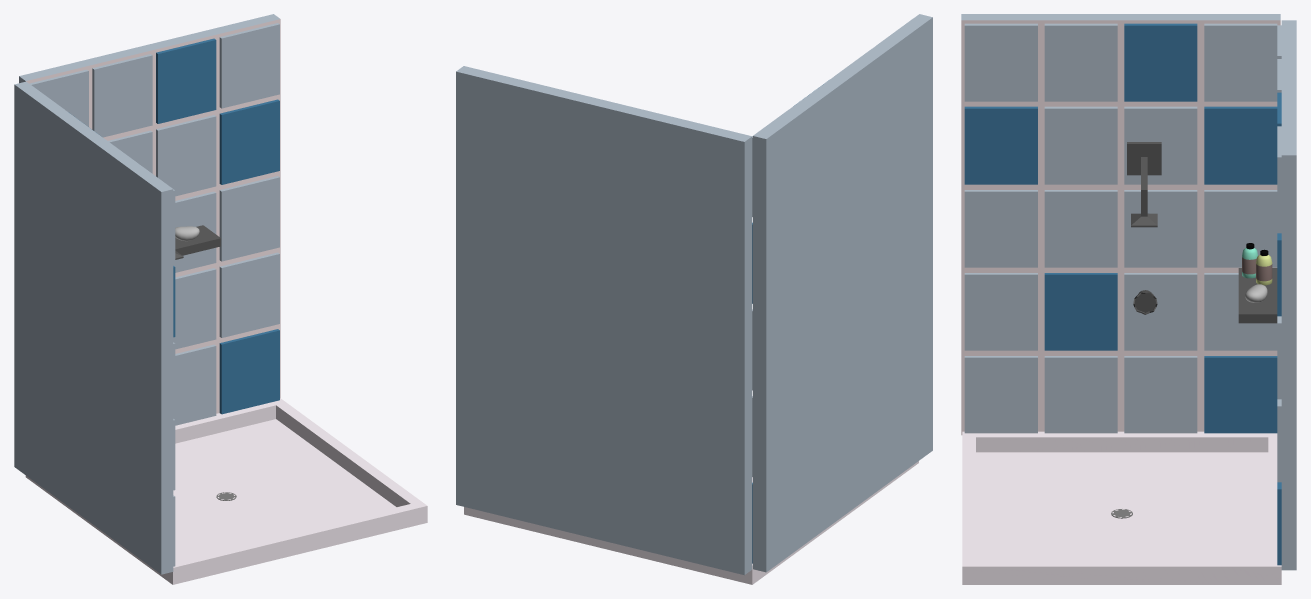
File: Ducha.fbx
3 renders of one model, left to right at view 1: azimuth 30°, elevation 25°; view 2: azimuth 150°, elevation 25°; view 3: azimuth 270°, elevation 25°, orthographic. The views are drawn at different scales.
Parts seen in each view (by area): view 1: Cube.160, Cube.163, Cube.111, Cube.191; view 2: Cube.163, Cube.160, Cube.111; view 3: Cube.160, Cube.111, Cube.163, Cube.162, Cube.191, Cylinder.017, Cylinder.016, Cylinder.018.
Part boxes in pixels (x1,y1,x2,y2): Cube.160: [14, 81, 175, 574]; Cube.163: [19, 14, 280, 425]; Cube.111: [25, 398, 427, 584]; Cube.191: [175, 225, 220, 255]; Cube.163: [456, 66, 752, 575]; Cube.160: [752, 14, 932, 572]; Cube.111: [464, 461, 918, 584]; Cube.160: [961, 14, 1280, 435]; Cube.111: [962, 431, 1281, 584]; Cube.163: [1277, 20, 1296, 570]; Cube.162: [1127, 142, 1161, 227]; Cube.191: [1238, 268, 1277, 323]; Cylinder.017: [1256, 249, 1272, 285]; Cylinder.016: [1242, 243, 1257, 278]; Cylinder.018: [1133, 290, 1157, 314].
Size of the model in its own units: 2211 by 3138 by 2217.
